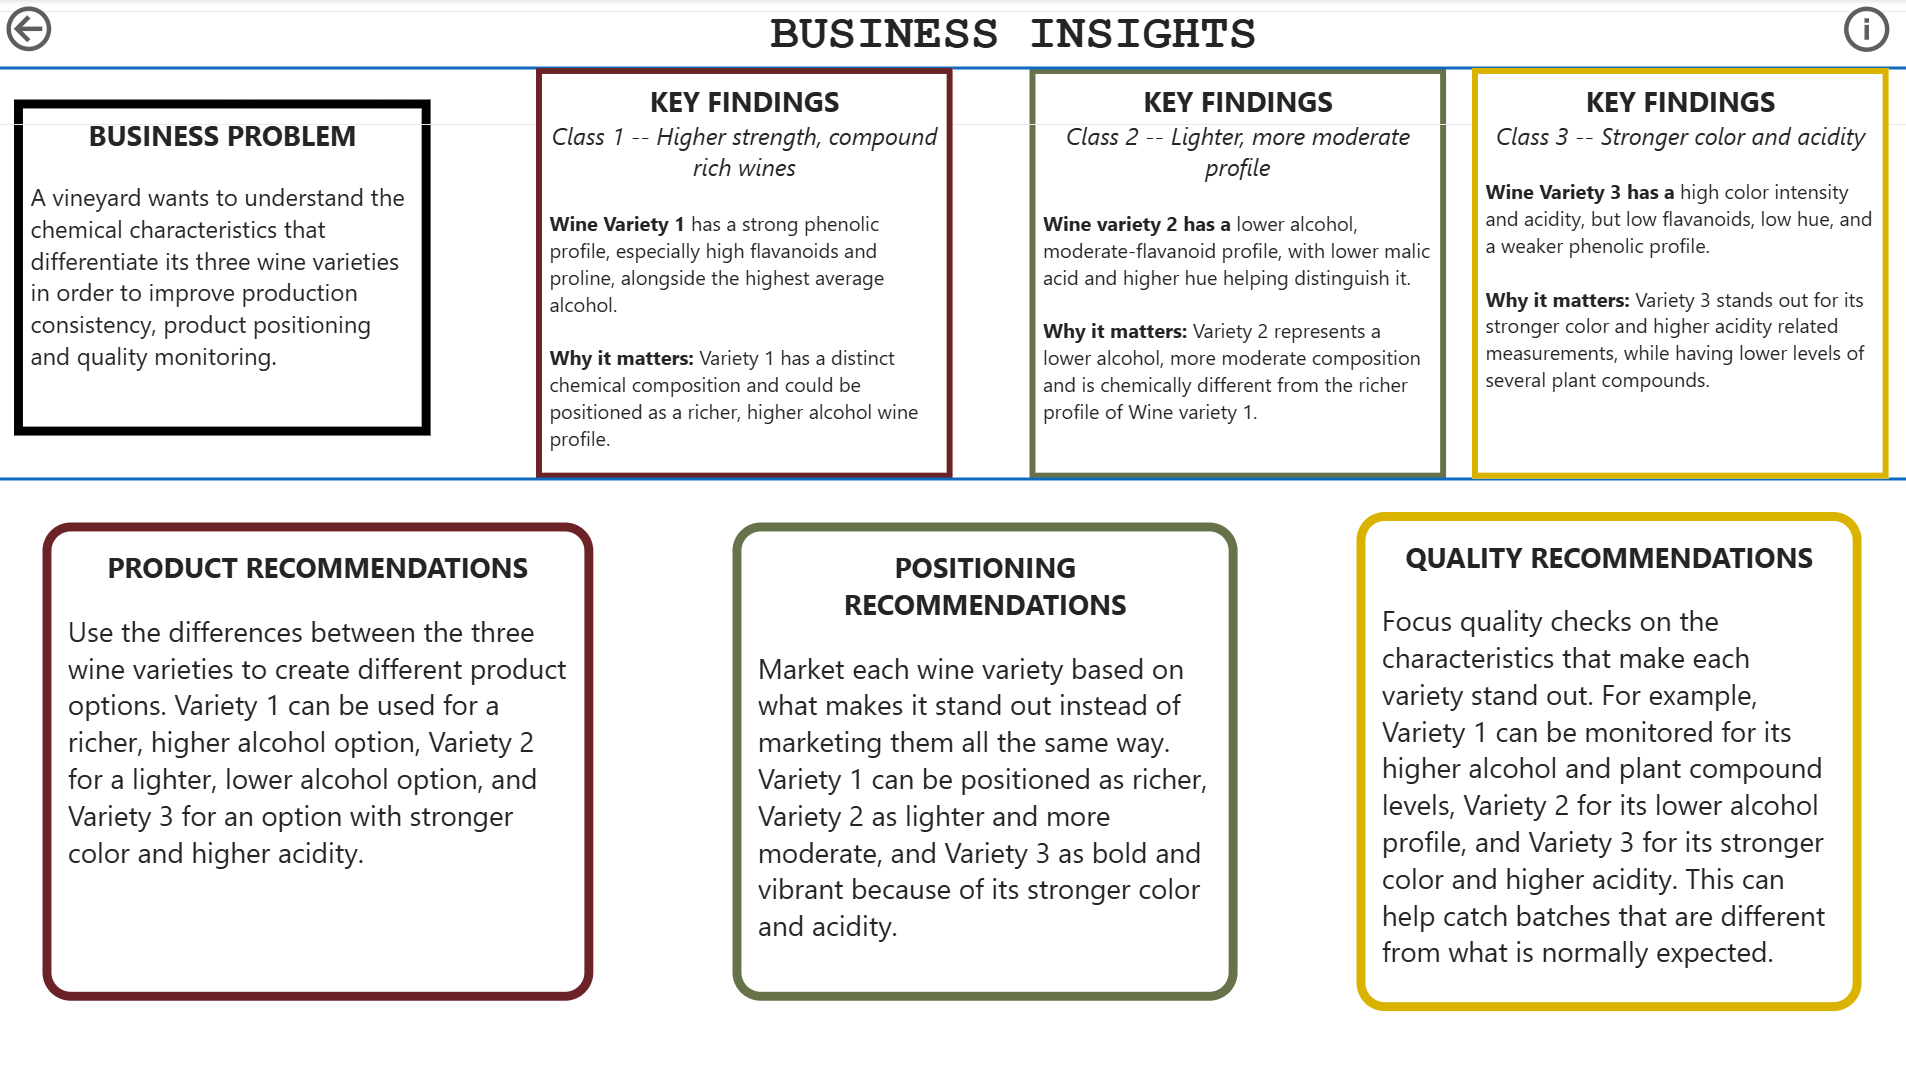

Layout of this report page (visuals, bound fields, positions):
{"tool":"powerbi","page":{"name":"Insights & Recommendations","canvas":[1280,720],"ordinal":2},"visuals":[{"type":"textbox","box":[10.1,67.4,279.6,225.3],"z":0},{"type":"textbox","box":[691,46.3,279.6,275.6],"z":1000},{"type":"textbox","box":[504.9,0,351,46.3],"z":2000},{"type":"shape","box":[0,8,1280.3,76.4],"z":3000},{"type":"textbox","box":[360.1,46.3,279.6,275.6],"z":4000},{"type":"shape","box":[0,283.6,1280.3,76.4],"z":5000},{"type":"textbox","box":[987.7,46.3,279.6,275.6],"z":6000},{"type":"textbox","box":[29.2,351,369.1,320.8],"z":7000},{"type":"textbox","box":[491.8,351,338.9,320.8],"z":9000},{"type":"textbox","box":[910.2,344,338.9,334.9],"z":10000},{"type":"actionButton","box":[0,0,100,40],"z":10002},{"type":"actionButton","box":[1232.5,0,47.5,40.6],"z":10003}]}

Visuals, with their boxes in screenshot pixels (x1, y1, x2, y2), scaled from the page's 1280x720 canvas onto the 1906x1072 screenshot:
textbox: (x1=15, y1=100, x2=431, y2=436)
textbox: (x1=1029, y1=69, x2=1445, y2=479)
textbox: (x1=752, y1=0, x2=1274, y2=69)
shape: (x1=0, y1=12, x2=1905, y2=126)
textbox: (x1=536, y1=69, x2=953, y2=479)
shape: (x1=0, y1=422, x2=1905, y2=536)
textbox: (x1=1471, y1=69, x2=1887, y2=479)
textbox: (x1=43, y1=523, x2=593, y2=1000)
textbox: (x1=732, y1=523, x2=1237, y2=1000)
textbox: (x1=1355, y1=512, x2=1860, y2=1011)
actionButton: (x1=0, y1=0, x2=149, y2=60)
actionButton: (x1=1835, y1=0, x2=1905, y2=60)
